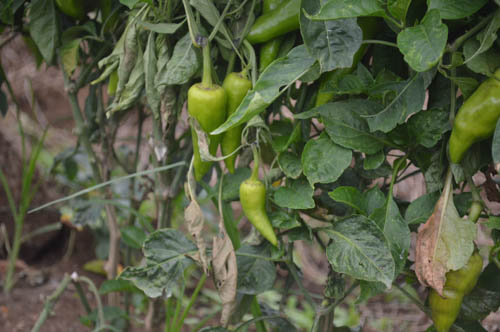ChiliPepper: (317, 19, 381, 103), (424, 253, 483, 331), (448, 79, 499, 169), (185, 88, 225, 182), (218, 76, 253, 175), (241, 180, 279, 249), (249, 1, 310, 43), (260, 2, 282, 74)
